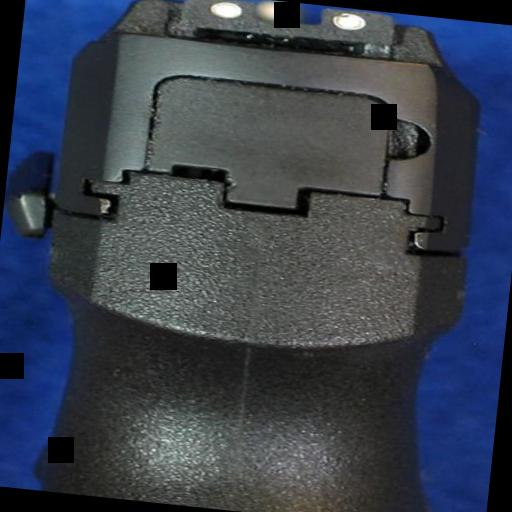Handgun: (29, 0, 485, 512)
